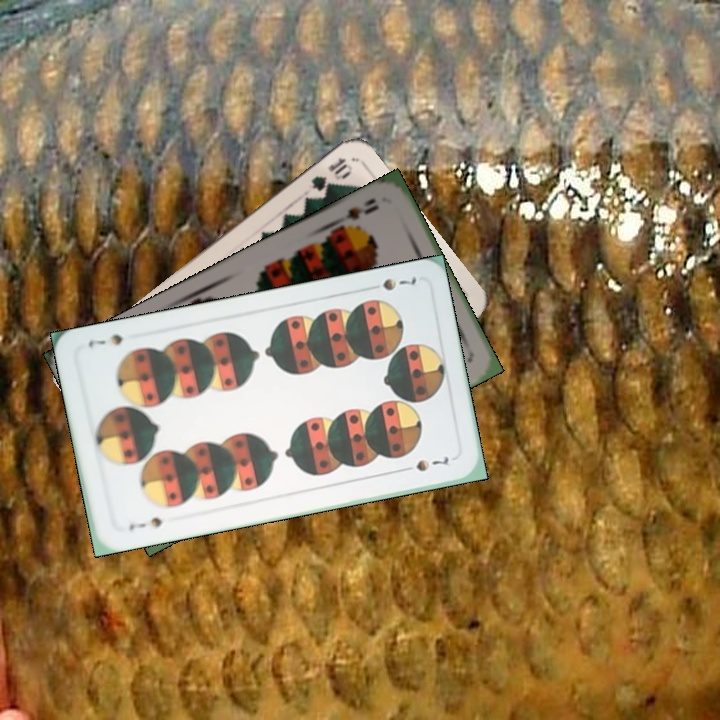G10: (307, 153, 352, 194)
S7: (362, 271, 419, 294), (124, 513, 165, 533)
S9: (329, 194, 382, 234)
